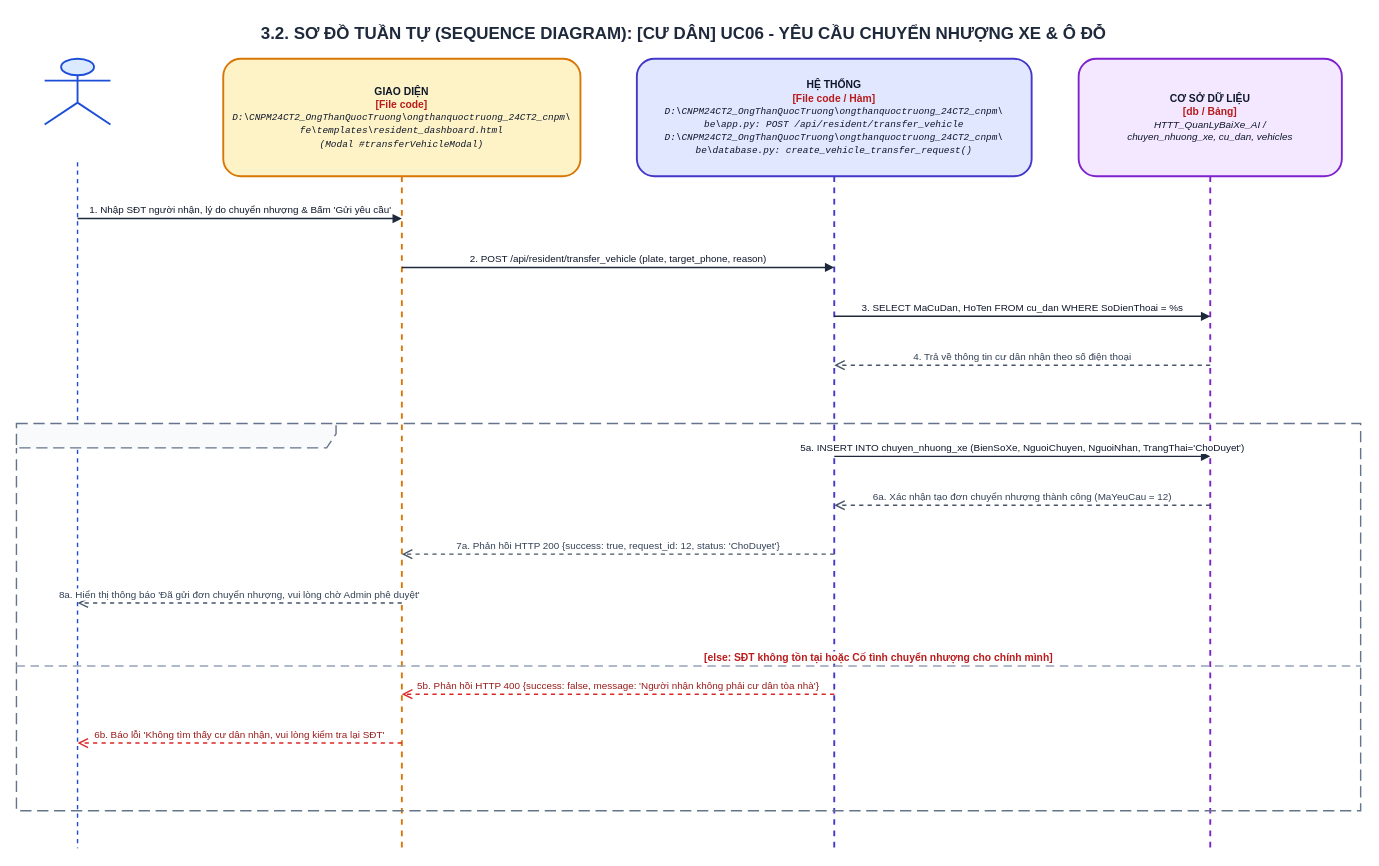
Image size: 1379x866. Some labels were removed from this diagram. The shapes that lost their labels are listed below. From the top down, each one's box as (x1, y1, x2, y2) in pixels, then its label:
(43, 57, 111, 125): TÁC NHÂN Cư Dân (Resident)
(15, 422, 1361, 811): alt [Tìm thấy cư dân nhận hợp lệ & Khác chủ xe hiện tại]
